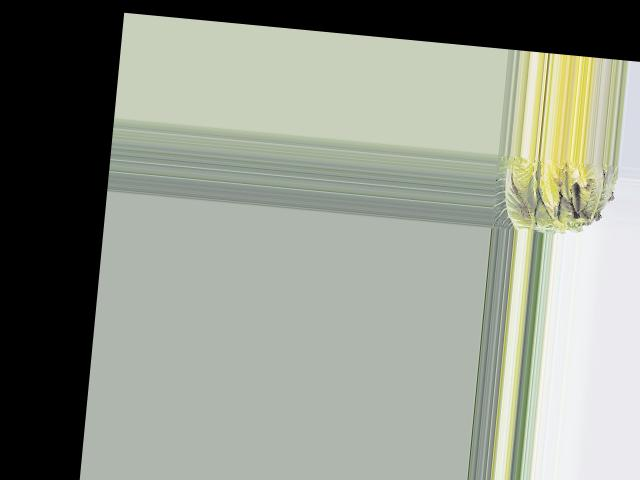lettuce: (491, 153, 614, 236)
